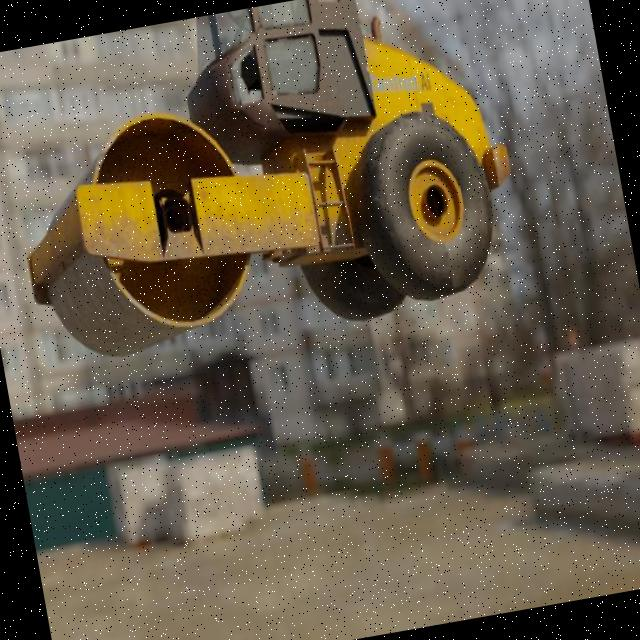Roller: (0, 0, 531, 378)
